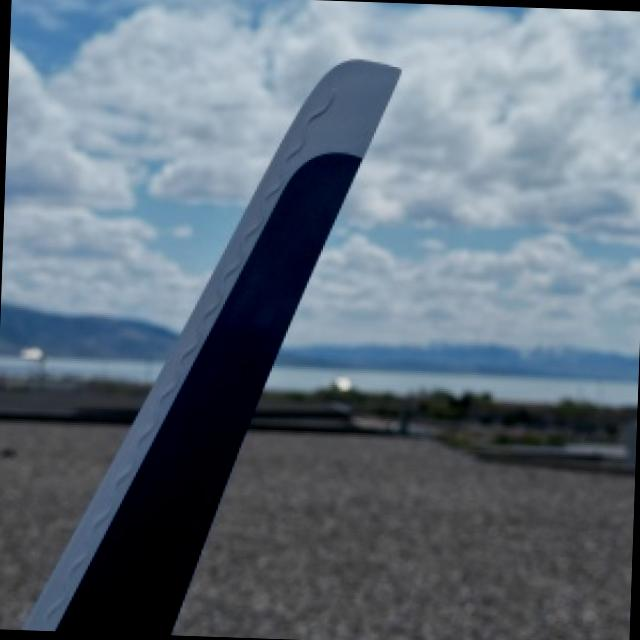healthy: (27, 59, 401, 629)
